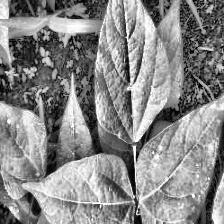Bean Rust: (91, 0, 171, 148), (140, 89, 224, 224), (0, 88, 53, 197)
